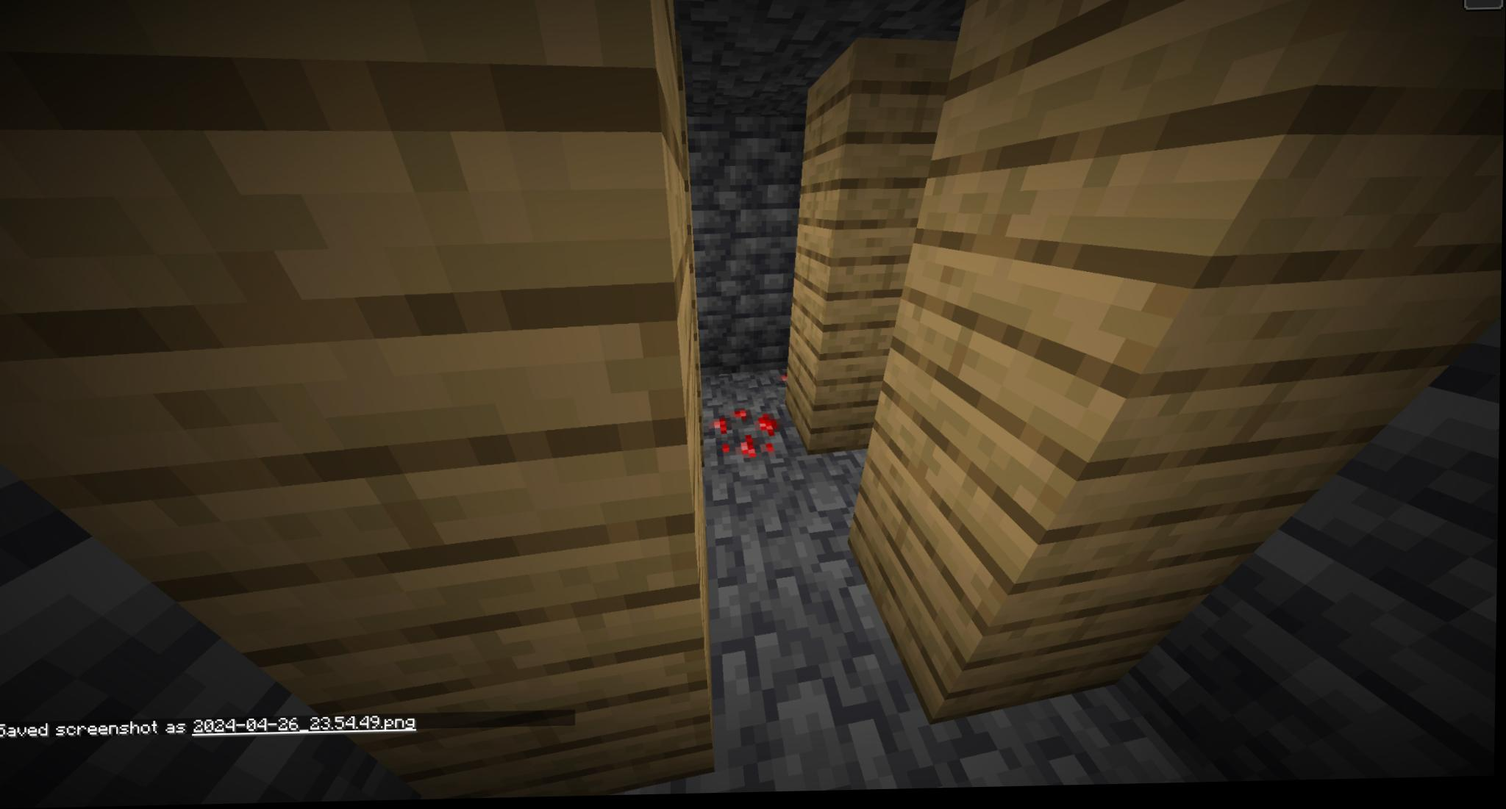redstone ore: (704, 405, 795, 471)
